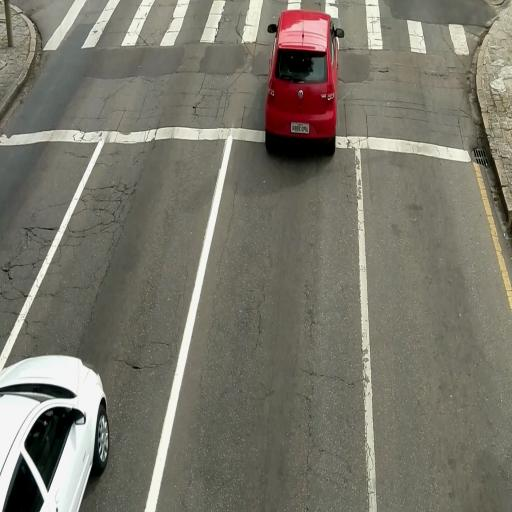car: (0, 355, 109, 511), (262, 4, 342, 155)
